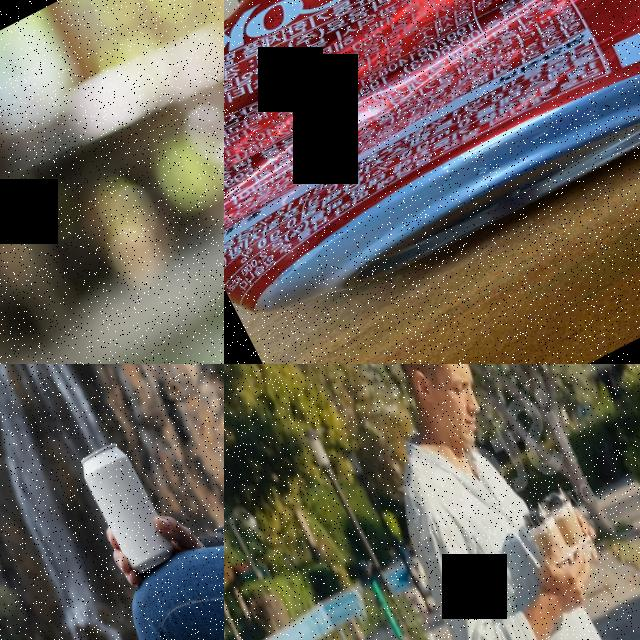can: (75, 438, 179, 578)
cup: (516, 499, 574, 572), (540, 486, 596, 558)
